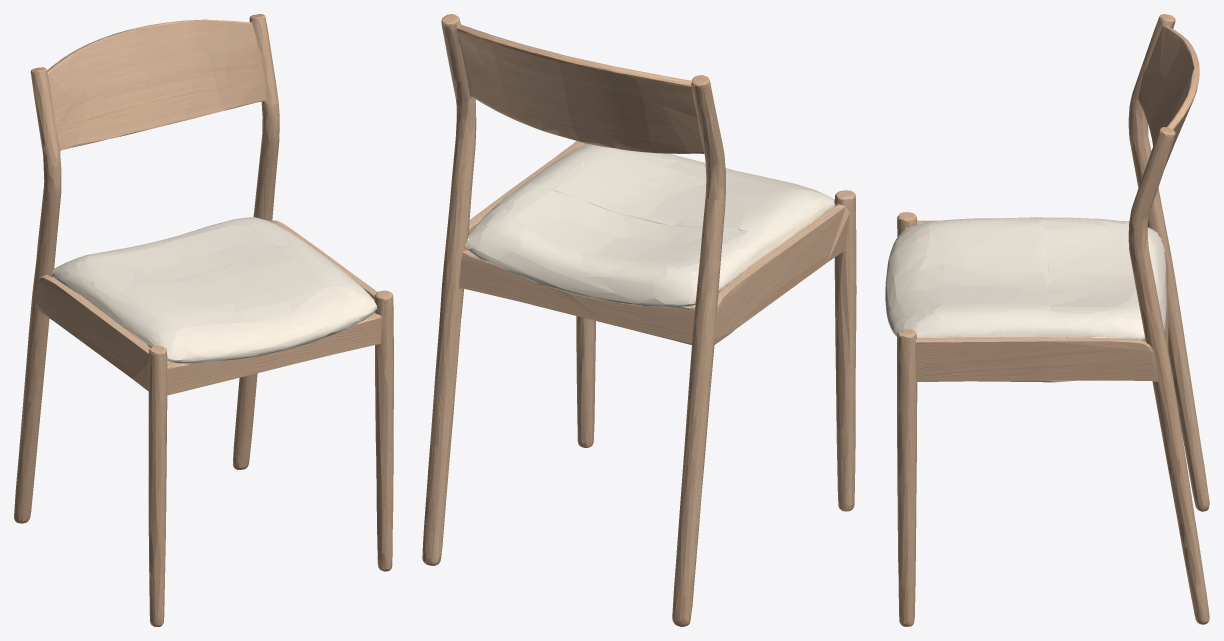
Rendered from chair.glb.
The picture shows the model from 3 angles, left to right: view 1: azimuth 30°, elevation 25°; view 2: azimuth 150°, elevation 25°; view 3: azimuth 270°, elevation 25°; orthographic projection. The views are drawn at different scales.
Visible parts, largest first — view 1: Mesh_0; view 2: Mesh_0; view 3: Mesh_0.
Part boxes in pixels (x1,y1,x2,y2): Mesh_0: (14,14,393,626); Mesh_0: (422,14,856,626); Mesh_0: (885,14,1209,626).
Size of the model in its own units: 1.03 by 1.9 by 1.12.
Materials: 1 (1 with a texture image).
